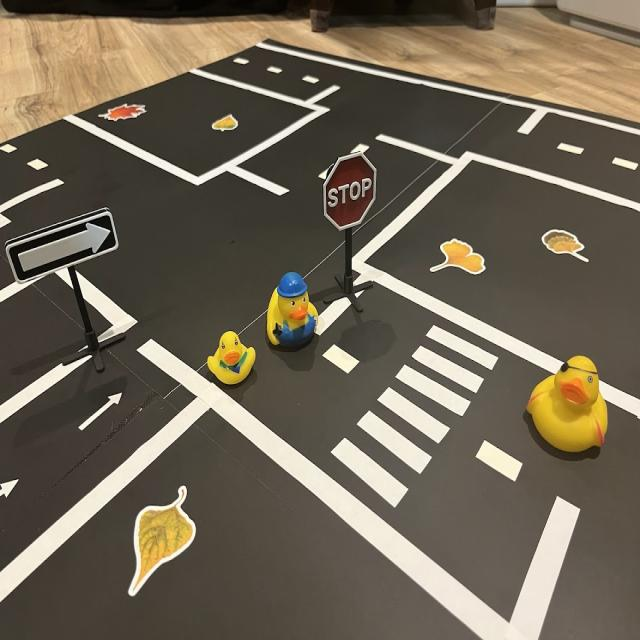duck_regular: (208, 327, 258, 391)
duck_specialty: (526, 350, 613, 461), (266, 268, 319, 358)
road_crosswalk: (321, 315, 510, 523)
road_oneway: (74, 386, 128, 437), (1, 463, 26, 511)
sign_oneway_right: (3, 202, 121, 289)
